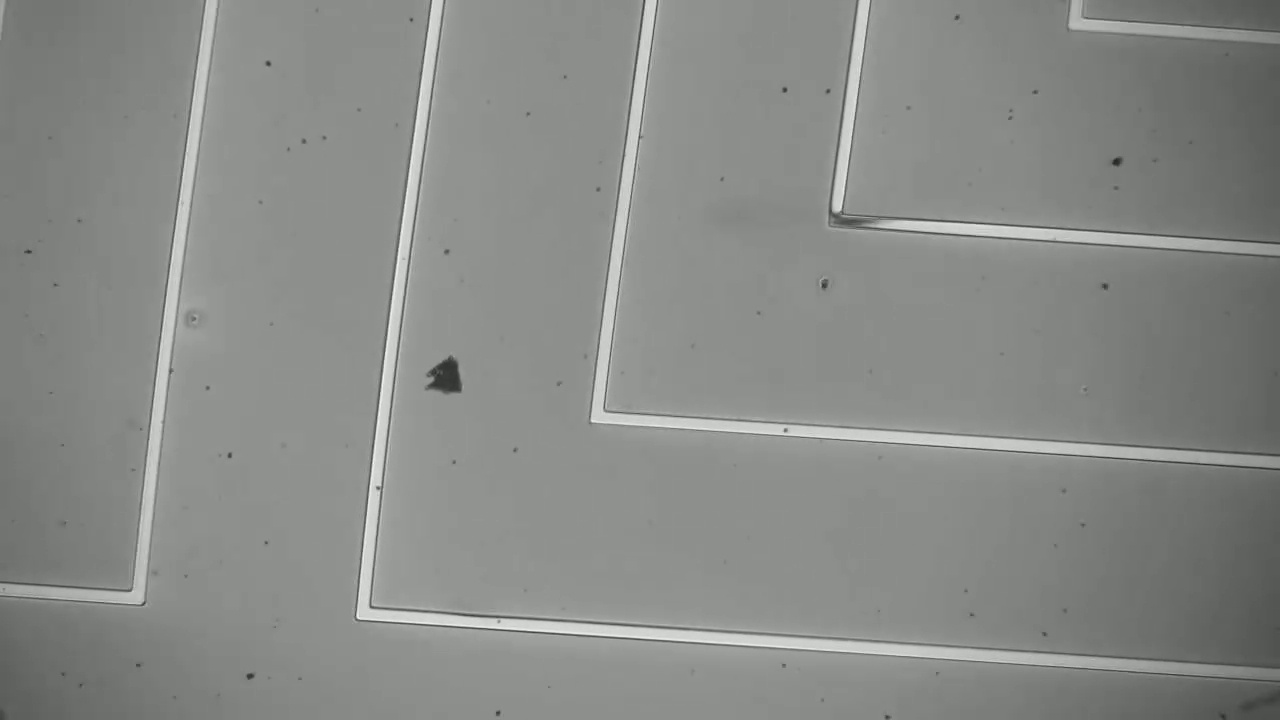gray_line: (817, 203, 897, 241)
